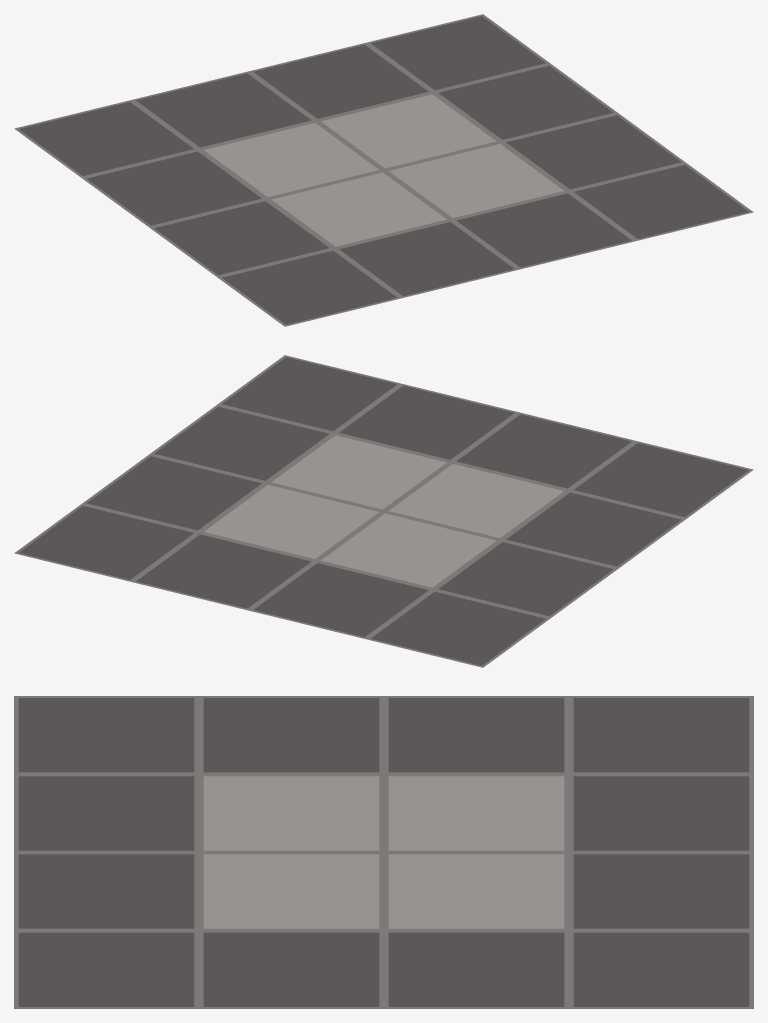
Rendered from scifi-floor-center.glb.
3 renders of one model, top to bottom at view 1: azimuth 30°, elevation 25°; view 2: azimuth 150°, elevation 25°; view 3: azimuth 270°, elevation 25°, orthographic. The views are drawn at different scales.
Parts seen in each view (by area): view 1: scifi-floor-center; view 2: scifi-floor-center; view 3: scifi-floor-center.
Boxes of the visible parts, x1,y1,x2,y2 form: scifi-floor-center: [14, 14, 753, 326]; scifi-floor-center: [14, 355, 753, 667]; scifi-floor-center: [14, 696, 753, 1008].
Size of the model in its own units: 4 by 8.88e-16 by 4.
Materials: 1 (1 with a texture image).
